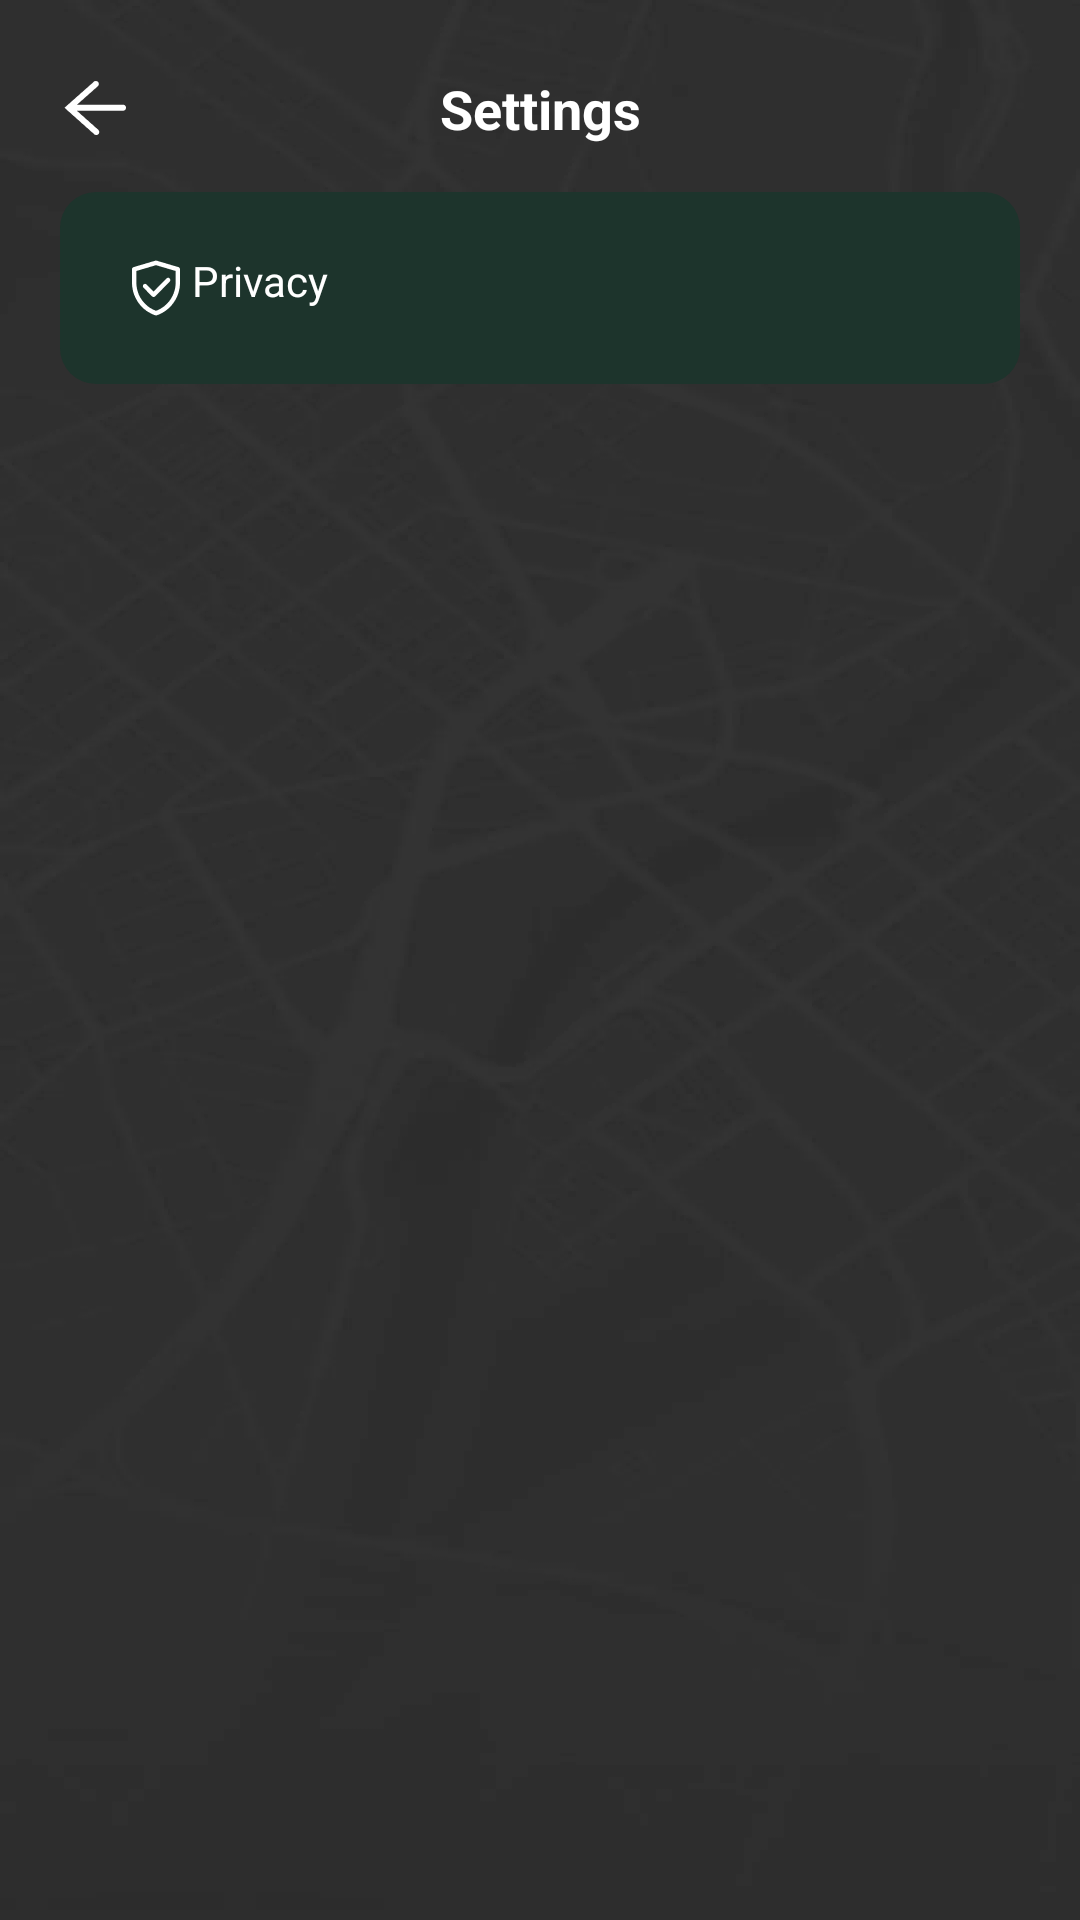

Icon click points for this 1080 × 1920 phone screenshot, format point (x, y):
back: point (95, 108)
